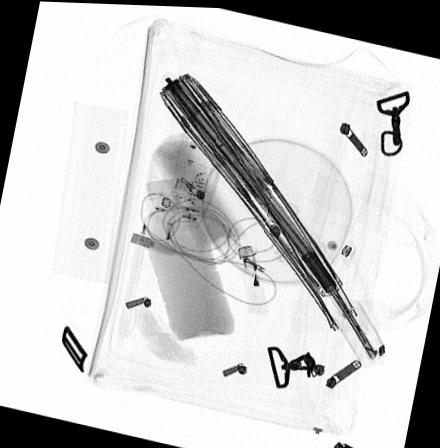Lighter: (236, 242, 265, 313)
